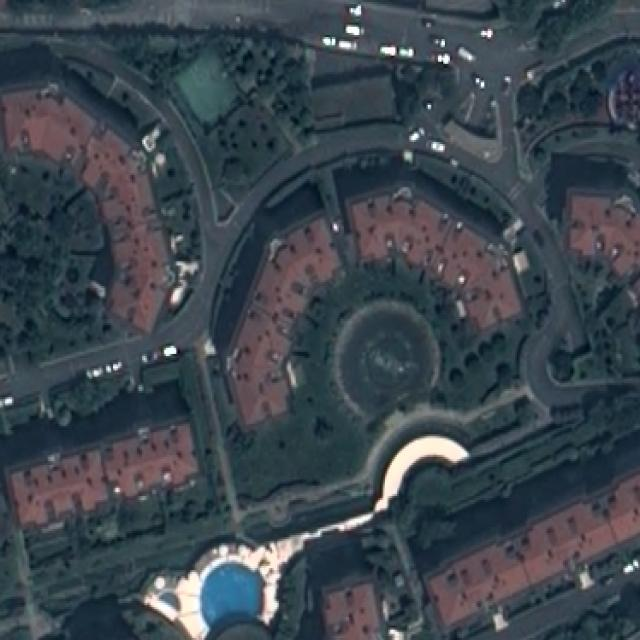Batiment: (2, 93, 167, 331), (427, 474, 640, 626), (227, 218, 340, 426), (350, 195, 521, 330), (12, 426, 199, 525), (569, 192, 640, 276), (324, 583, 379, 640)
